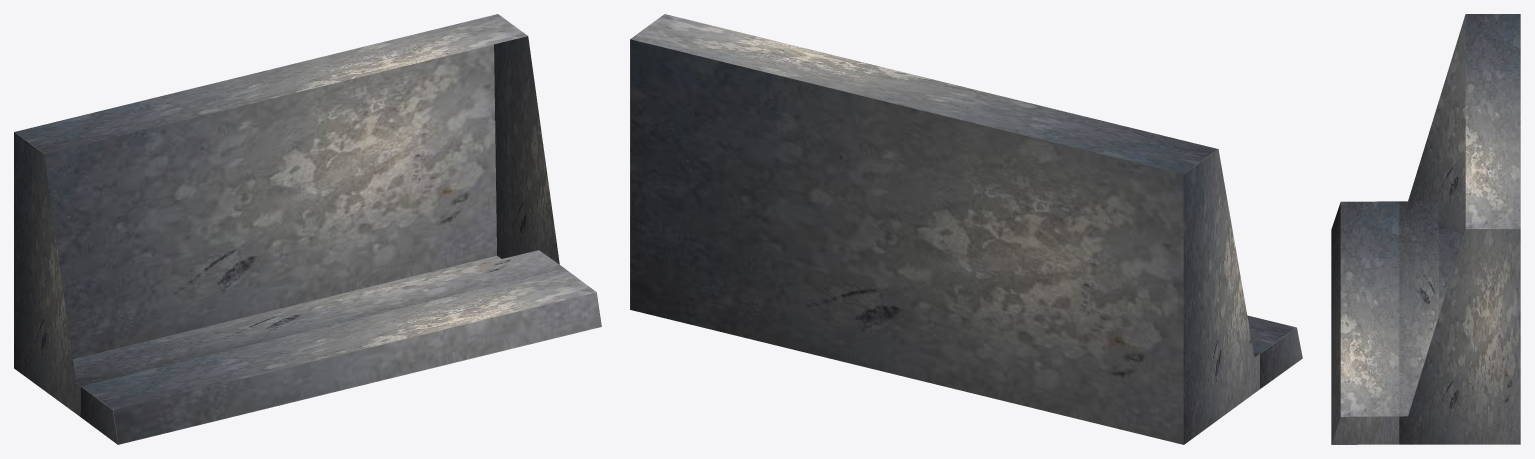
Rendered from Toilet3.FBX.
3 renders of one model, left to right at view 1: azimuth 30°, elevation 25°; view 2: azimuth 150°, elevation 25°; view 3: azimuth 270°, elevation 25°, orthographic. The views are drawn at different scales.
Parts seen in each view (by area): view 1: Box001; view 2: Box001; view 3: Box001.
Boxes of the visible parts, x1,y1,x2,y2 form: Box001: [14, 14, 601, 444]; Box001: [630, 14, 1302, 444]; Box001: [1331, 14, 1520, 444].
Size of the model in its own units: 136 by 63.8 by 50.72.
1 material, 1 textured.
